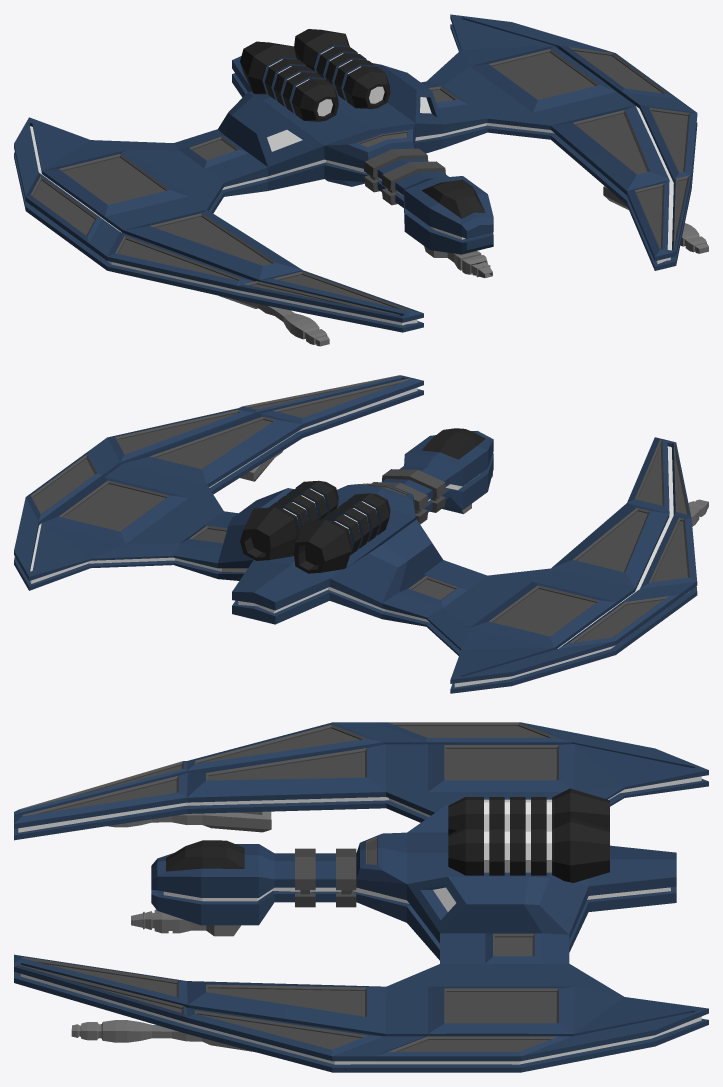
The model's file is PlayerShip.fbx.
3 views of the same model, one above another, from view 1: azimuth 30°, elevation 25°; view 2: azimuth 150°, elevation 25°; view 3: azimuth 270°, elevation 25° (orthographic). The views are drawn at different scales.
Parts seen in each view (by area): view 1: Cube; view 2: Cube; view 3: Cube.
Part boxes in pixels (x1,y1,x2,y2): Cube: (14,14,708,346); Cube: (14,375,708,693); Cube: (14,722,708,1072).
Bounding box in the file's own units: 2483 × 436 × 2184.
